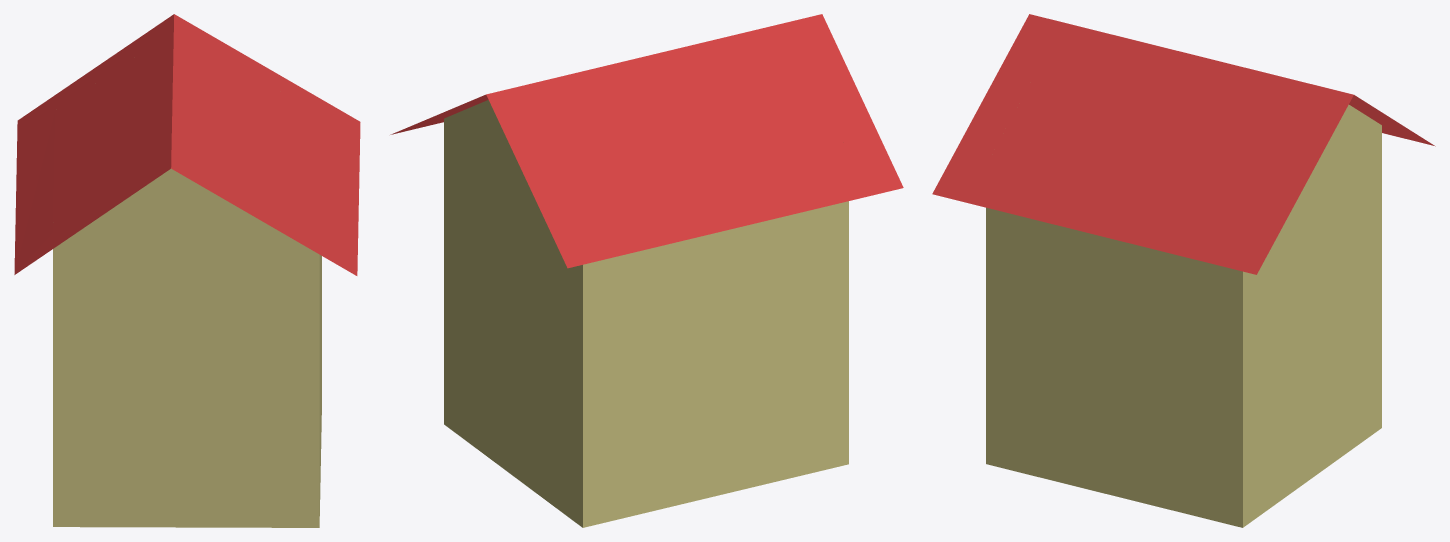
3 renders of one model, left to right at view 1: azimuth 30°, elevation 25°; view 2: azimuth 150°, elevation 25°; view 3: azimuth 270°, elevation 25°, orthographic. The views are drawn at different scales.
Size of the model in its own units: 9.45 by 9.61 by 8.13.
